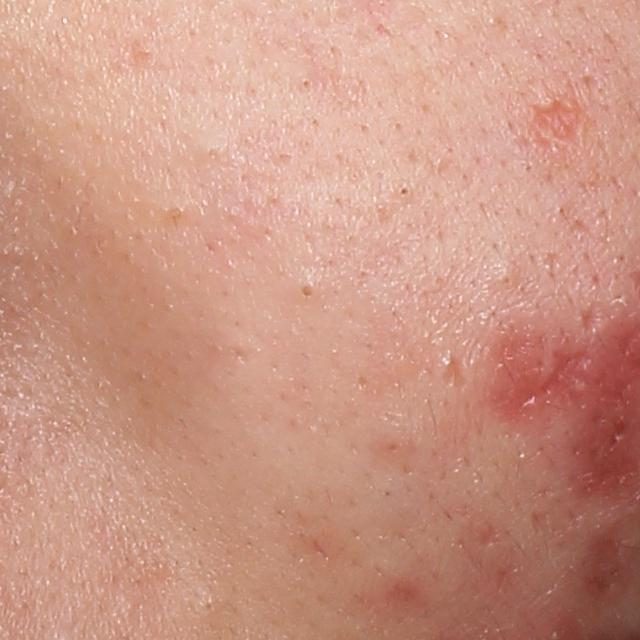atrophic_scar: (513, 348, 632, 409), (530, 105, 583, 157), (578, 301, 603, 338), (443, 358, 469, 392)
comedo: (489, 262, 519, 290), (193, 593, 225, 618), (299, 279, 318, 301), (397, 184, 411, 198), (300, 76, 313, 90)
